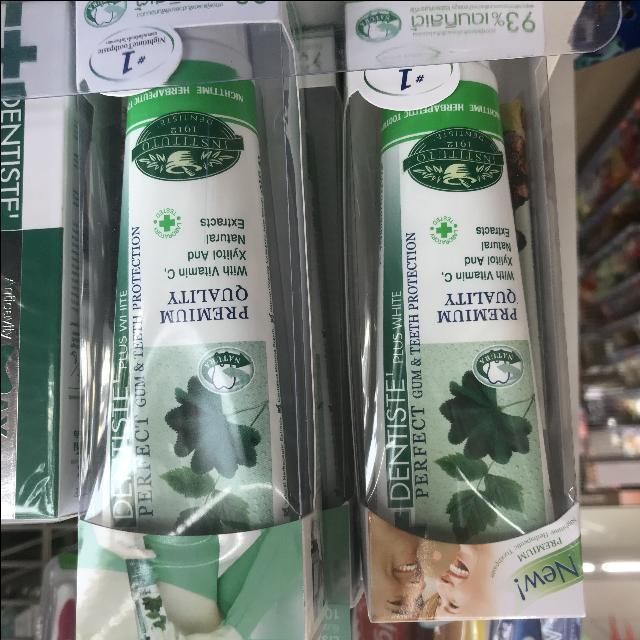Squeeze Tube: (68, 21, 316, 639), (362, 23, 567, 561)
